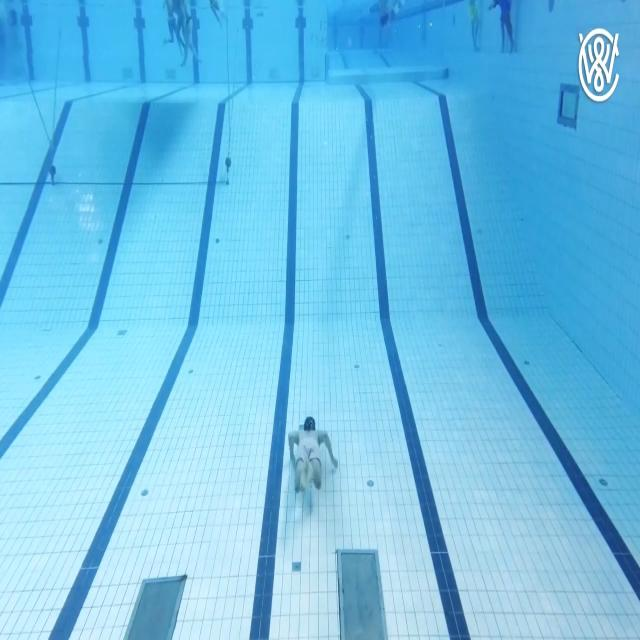Swimming: (289, 416, 339, 497)
